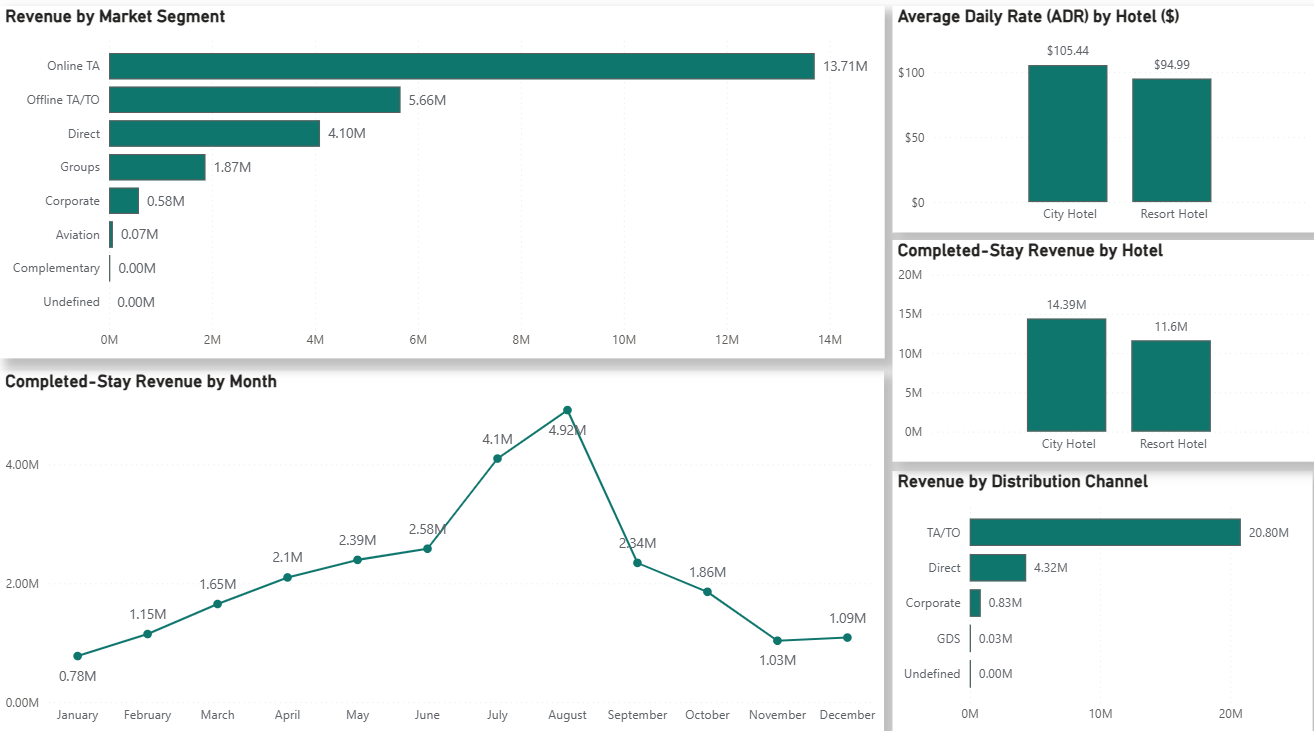

Layout of this report page (visuals, bound fields, positions):
{"tool":"powerbi","page":{"name":"Revenue & Seasonal Trends","canvas":[1280,720],"ordinal":2},"visuals":[{"type":"lineChart","title":"Completed-Stay Revenue by Month","fields":{"Category":["hotel_bookings_cleaned.arrival_date_month"],"Y":["_Measures.Completed-Stay Revenue"]},"box":[0,366.4,861.6,352.8],"z":0},{"type":"clusteredBarChart","title":"Revenue by Market Segment","fields":{"Y":["_Measures.Completed-Stay Revenue"],"Category":["hotel_bookings_cleaned.market_segment"]},"box":[0,11.7,862.3,343.4],"z":1000},{"type":"clusteredBarChart","title":"Revenue by Distribution Channel","fields":{"Category":["hotel_bookings_cleaned.distribution_channel"],"Y":["_Measures.Completed-Stay Revenue"]},"box":[869.6,464.7,409.2,254.3],"z":2000},{"type":"clusteredColumnChart","title":"Average Daily Rate (ADR) by Hotel ($)","fields":{"Y":["_Measures.Average ADR"],"Category":["hotel_bookings_cleaned.hotel"]},"box":[869.6,11.7,410.7,220.7],"z":3000},{"type":"clusteredColumnChart","title":"Completed-Stay Revenue by Hotel","fields":{"Category":["hotel_bookings_cleaned.hotel"],"Y":["_Measures.Completed-Stay Revenue"]},"box":[869.3,239.7,410.7,216.3],"z":4000}]}

Visuals, with their boxes in screenshot pixels (x1, y1, x2, y2), scaled from the page's 1280x720 canvas onto the 1314x731 screenshot:
"Completed-Stay Revenue by Month" lineChart: 0,372,884,730
"Revenue by Market Segment" clusteredBarChart: 0,12,885,361
"Revenue by Distribution Channel" clusteredBarChart: 893,472,1313,730
"Average Daily Rate (ADR) by Hotel ($)" clusteredColumnChart: 893,12,1313,236
"Completed-Stay Revenue by Hotel" clusteredColumnChart: 892,243,1313,463
